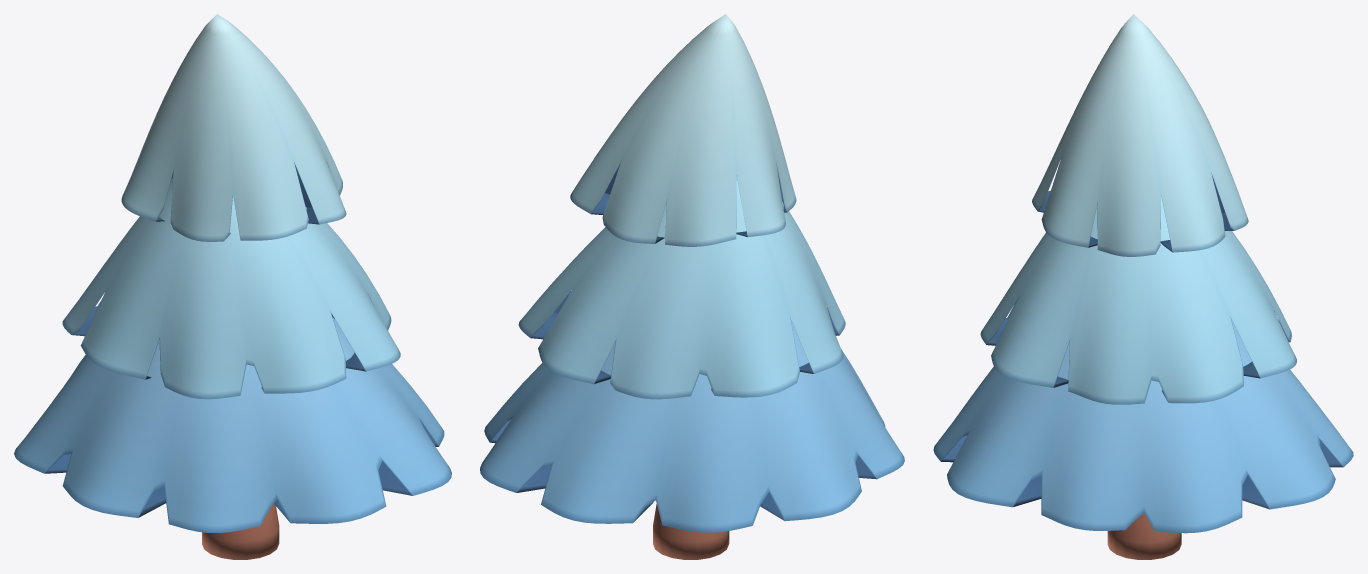
The model's file is pine_1.glb.
3 views of the same model, side by side, from view 1: azimuth 30°, elevation 25°; view 2: azimuth 150°, elevation 25°; view 3: azimuth 270°, elevation 25° (orthographic). The views are drawn at different scales.
Parts seen in each view (by area): view 1: pine_1; view 2: pine_1; view 3: pine_1.
Part boxes in pixels (left/top/right/bottom): pine_1: left=14, top=14, right=451, bottom=559; pine_1: left=480, top=14, right=904, bottom=559; pine_1: left=933, top=14, right=1353, bottom=559.
Bounding box in the file's own units: 2.31 × 3.24 × 2.39.
Materials: 3 (3 with a texture image).
